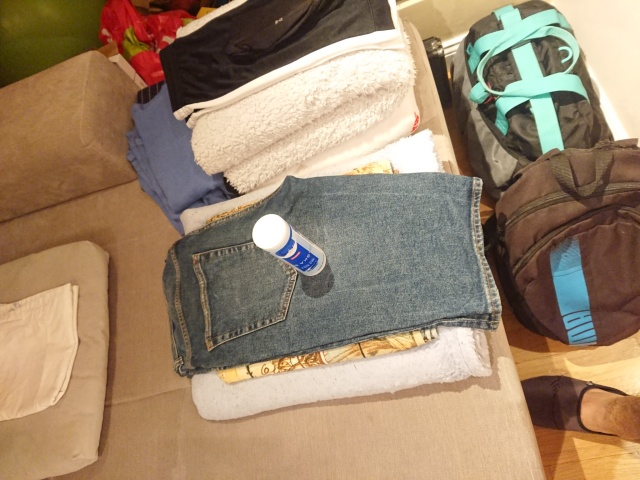Solana Pag Fine Sea Salt 250g: (250, 212, 328, 279)
